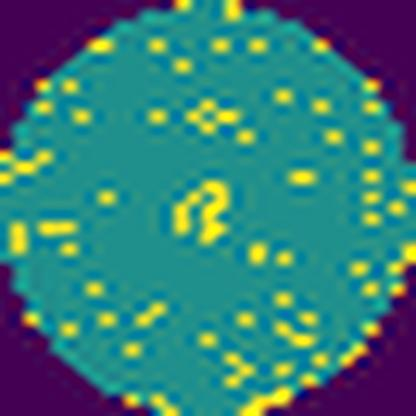Center: (169, 175, 240, 252)
